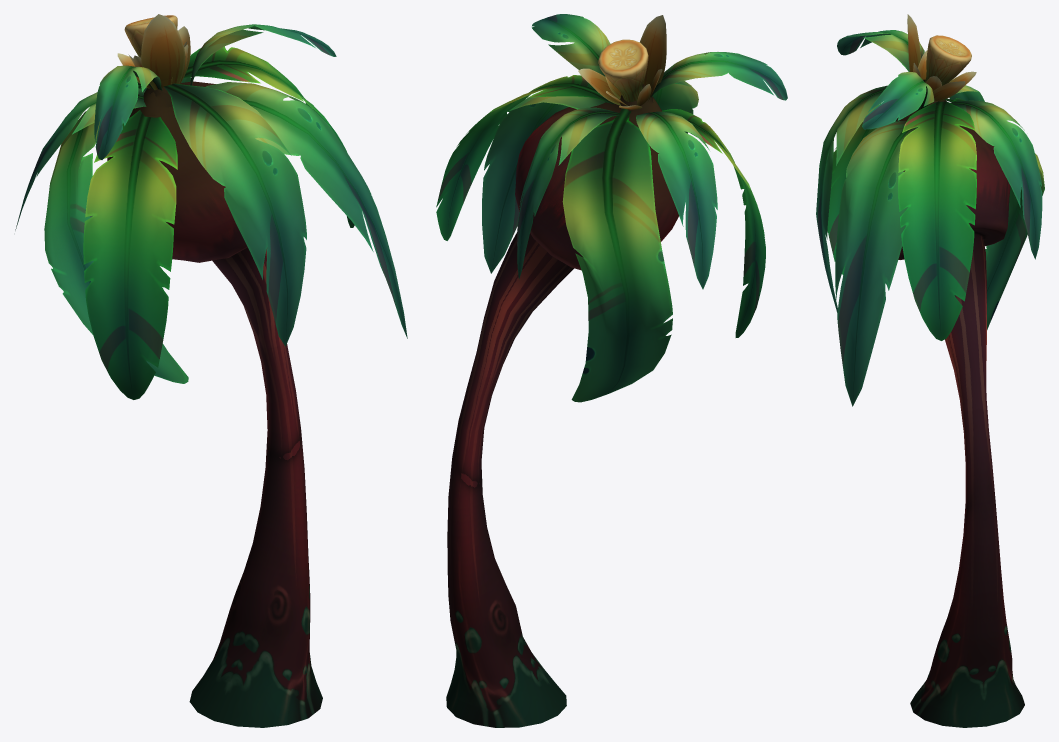
The model's file is palm03.fbx.
The picture shows the model from 3 angles, left to right: view 1: azimuth 30°, elevation 25°; view 2: azimuth 150°, elevation 25°; view 3: azimuth 270°, elevation 25°; orthographic projection. The views are drawn at different scales.
Visible parts, largest first — view 1: palm03; view 2: palm03; view 3: palm03.
Part boxes in pixels (left/top/right/bottom): palm03: left=15, top=14, right=407, bottom=727; palm03: left=436, top=14, right=787, bottom=727; palm03: left=816, top=14, right=1044, bottom=727.
Bounding box in the file's own units: 66.67 × 151 × 49.27.
Materials: 1 (1 with a texture image).
